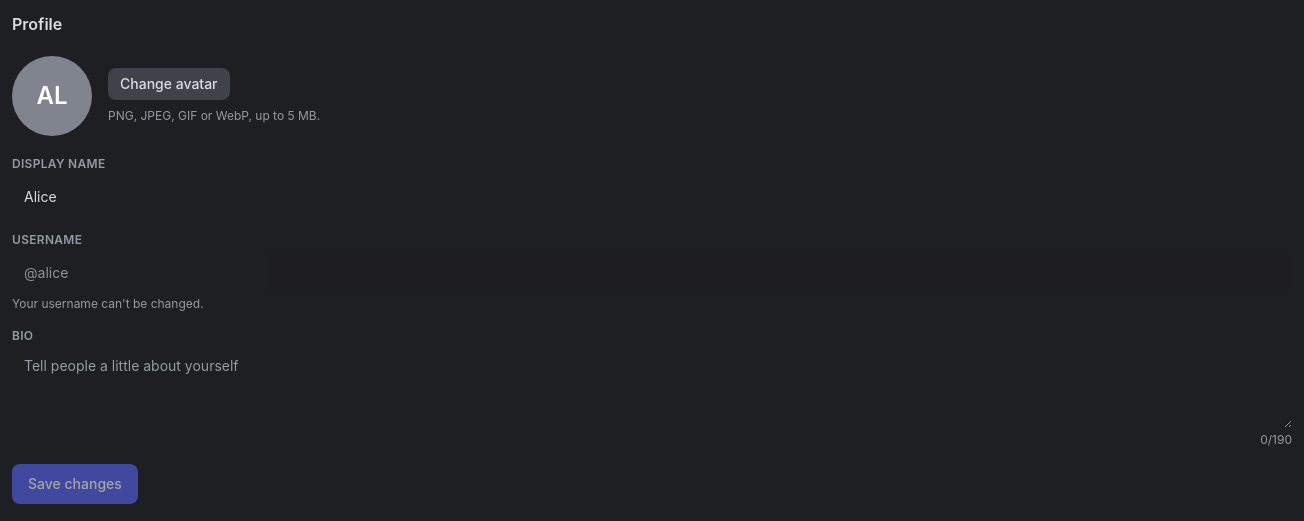
ProfileSection › disables Save until a field changes
The width and height of the screenshot is (1304, 521).
Expected: the button "Save changes" is disabled, [12,464,138,504]
Type "!" into the field labelled "Display name".
click(652, 196); type("!")  # box [12,176,1292,216]
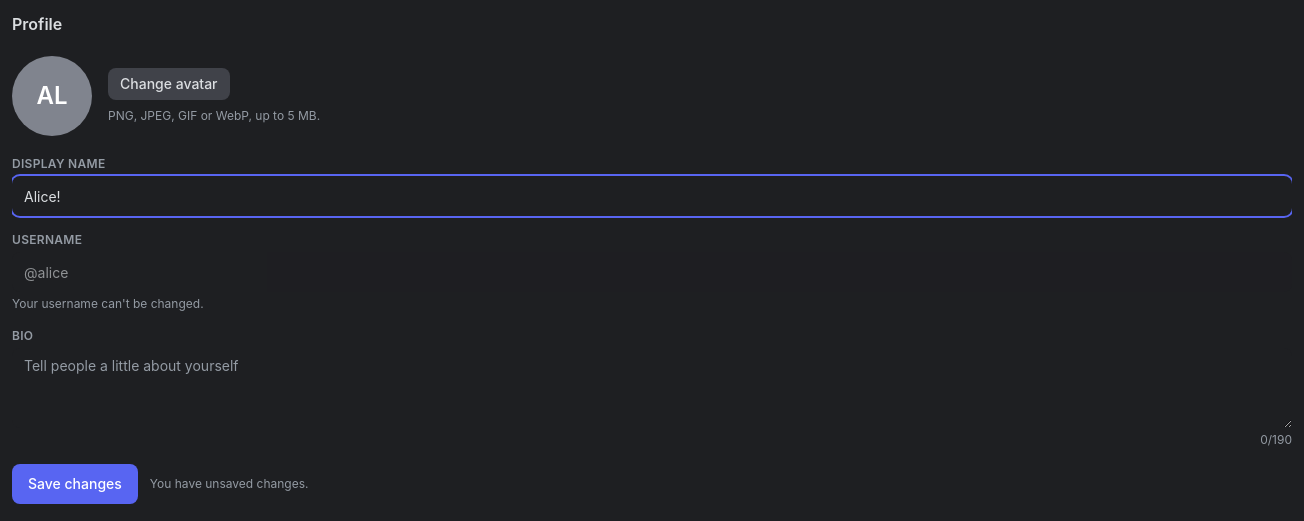
Result: the button "Save changes" is enabled at [12,464,138,504]
Result: the text "You have unsaved changes." is shown at [150,476,308,492]
